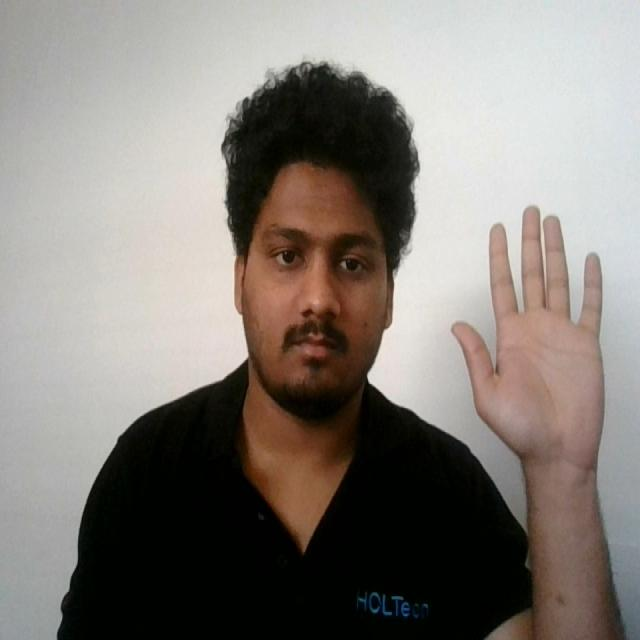Hello: (446, 196, 623, 485)
